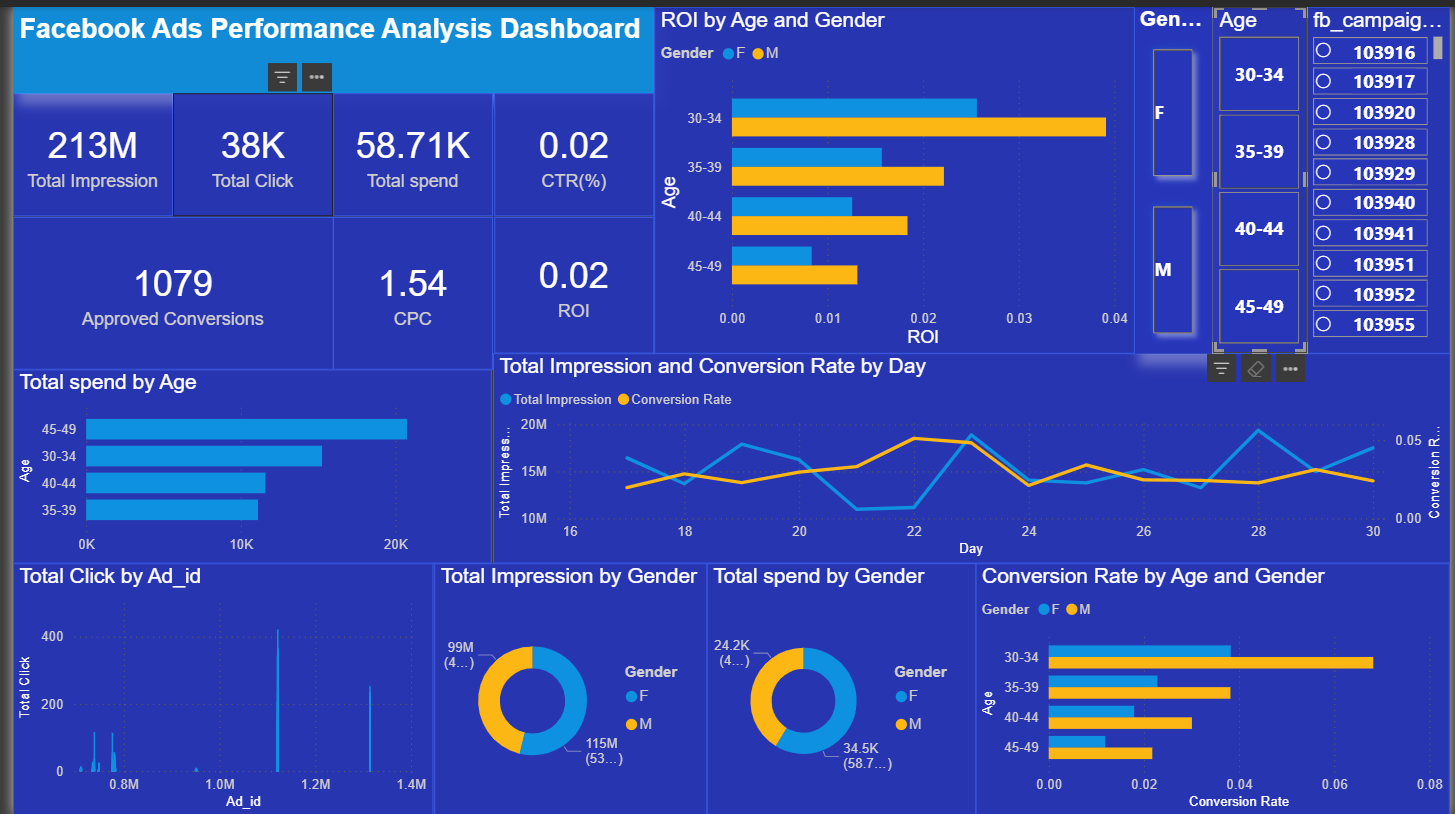

The page's visual inventory and layout, read from the dashboard file:
{"tool":"powerbi","page":{"name":"Page 1","canvas":[1280,720],"ordinal":0},"visuals":[{"type":"card","fields":{"Values":["data.Total Impression"]},"box":[0,76.8,142.7,109.8],"z":0},{"type":"textbox","box":[0,0,570.8,76.8],"z":1000},{"type":"card","fields":{"Values":["data.Total Click"]},"box":[142.7,76.8,142.7,109.8],"z":2000},{"type":"card","fields":{"Values":["data.Total spend"]},"box":[285.4,76.8,142.7,109.8],"z":3000},{"type":"card","fields":{"Values":["data.CTR(%)"]},"box":[428.1,76.8,142.7,109.8],"z":4000},{"type":"card","fields":{"Values":["data.ROI"]},"box":[428.6,187,142.5,121.3],"z":5000},{"type":"card","fields":{"Values":["data.Approved Conversions"]},"box":[0,186.6,285.4,135.8],"z":6000},{"type":"card","fields":{"Values":["data.CPC"]},"box":[285.4,186.6,142.7,135.8],"z":7000},{"type":"columnChart","fields":{"Category":["data.ad_id"],"Y":["data.Total Click"]},"box":[0,495.4,374.6,225],"z":8000},{"type":"clusteredBarChart","fields":{"Y":["data.Total spend"],"Category":["data.age"]},"box":[0,322.5,426.8,172.9],"z":9000},{"type":"clusteredBarChart","fields":{"Category":["data.age"],"Series":["data.gender"],"Y":["data.Conversion Rate"]},"box":[857.6,495.4,422.6,225],"z":10000},{"type":"donutChart","fields":{"Y":["data.Total Impression"],"Category":["data.gender"]},"box":[374.6,495.4,242.9,225],"z":11000},{"type":"lineChart","fields":{"Category":["data.reporting_start.Variation.Date Hierarchy.Day"],"Y":["data.Total Impression"],"Y2":["data.Conversion Rate"]},"box":[427.5,308.4,852.7,187],"z":12000},{"type":"donutChart","fields":{"Y":["data.Total spend"],"Category":["data.gender"]},"box":[617.5,495.4,240.1,225],"z":13000},{"type":"listSlicer","fields":{"Values":["data.gender"]},"box":[999,0,70,308.7],"z":14000},{"type":"listSlicer","fields":{"Values":["data.age"]},"box":[1069,0,83.7,308.7],"z":15000},{"type":"clusteredBarChart","fields":{"Y":["data.ROI"],"Category":["data.age"],"Series":["data.gender"]},"box":[570.8,0,428.1,308.7],"z":16000},{"type":"listSlicer","fields":{"Values":["data.fb_campaign_id"]},"box":[1152.7,0,127.6,308.7],"z":17000}]}

Visuals, with their boxes in screenshot pixels (x1, y1, x2, y2), scaled from the page's 1280x720 canvas onto the 1455x814 screenshot:
card - data.Total Impression: 0, 87, 162, 211
textbox: 0, 0, 649, 87
card - data.Total Click: 162, 87, 324, 211
card - data.Total spend: 324, 87, 487, 211
card - data.CTR(%): 487, 87, 649, 211
card - data.ROI: 487, 211, 649, 349
card - data.Approved Conversions: 0, 211, 324, 364
card - data.CPC: 324, 211, 487, 364
columnChart - data.ad_id x data.Total Click: 0, 560, 426, 813
clusteredBarChart - data.Total spend x data.age: 0, 365, 485, 560
clusteredBarChart - data.age x data.gender: 975, 560, 1454, 813
donutChart - data.Total Impression x data.gender: 426, 560, 702, 813
lineChart - data.reporting_start.Variation.Date Hierarchy.Day x data.Total Impression: 486, 349, 1454, 560
donutChart - data.Total spend x data.gender: 702, 560, 975, 813
listSlicer - data.gender: 1136, 0, 1215, 349
listSlicer - data.age: 1215, 0, 1310, 349
clusteredBarChart - data.ROI x data.age: 649, 0, 1135, 349
listSlicer - data.fb_campaign_id: 1310, 0, 1454, 349
